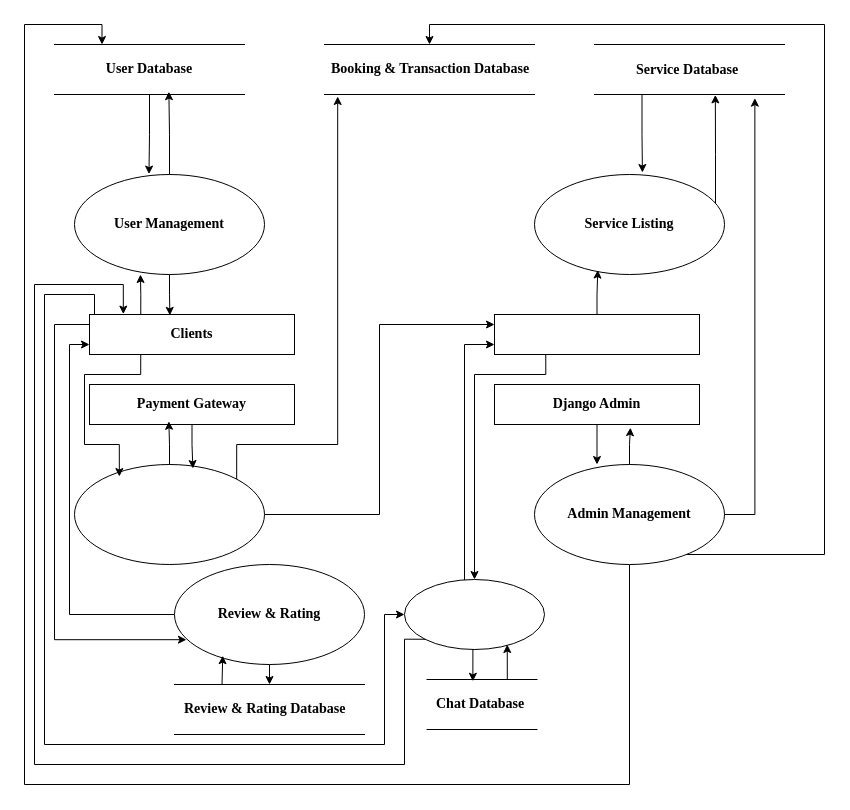
Image size: 850x810. Some labels were removed from this diagram. The shapes that lost their labels are listed below. From the top down, each one's centre as x and y in pixels, then its label:
At pixel 597 334: "Service Providers".
At pixel 169 514: "Service Booking & Payment".
At pixel 474 614: "Chat".
